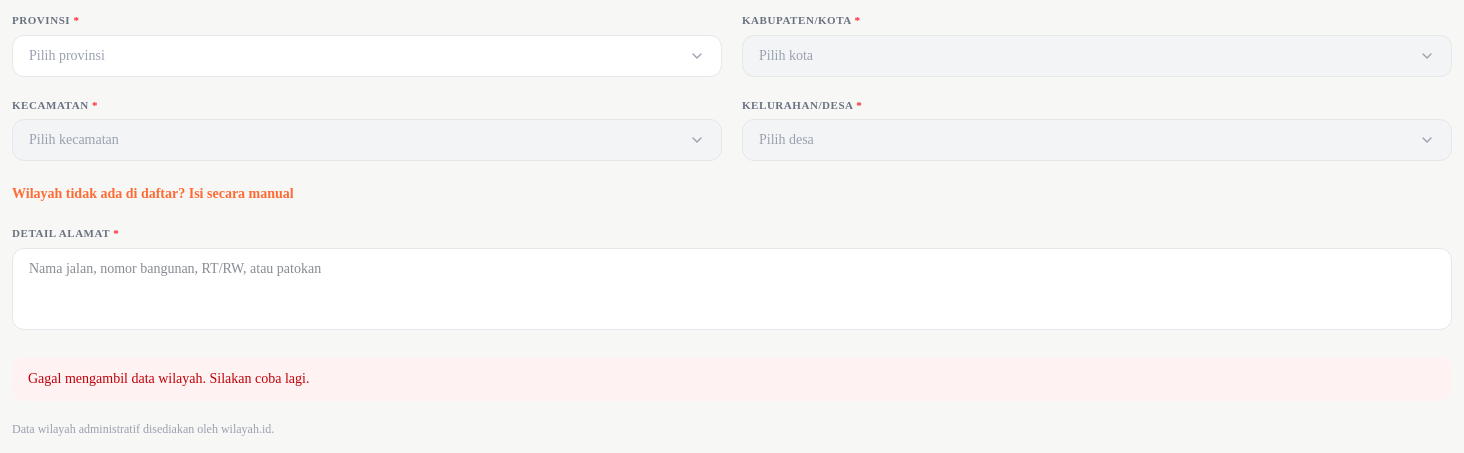
Test: IndonesiaRegionFields › offers manual region fields when wilayah.id is unavailable
expect the message shows "Gagal mengambil data wilayah": met, box [28,370,310,386]
Click the button "Wilayah tidak ada di daftar? Isi secara manual" at (153, 194), box [12,184,294,204]
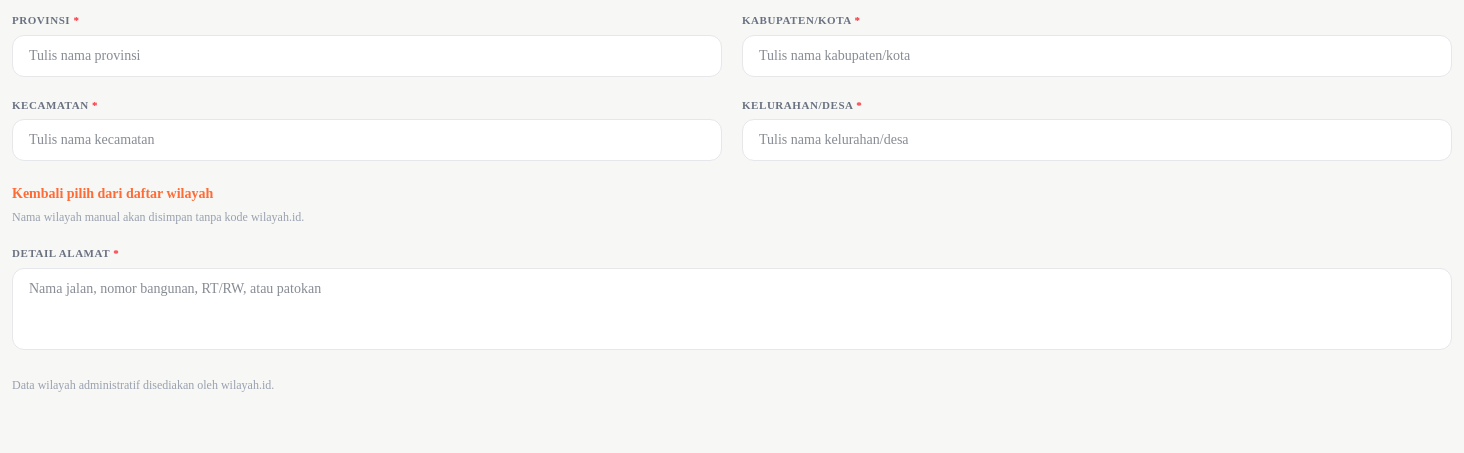
expect the field labelled "Provinsi *" is shown: met, box [12,34,722,76]
expect the field labelled "Kabupaten/Kota *" is shown: met, box [742,34,1452,76]
expect the field labelled "Kecamatan *" is shown: met, box [12,119,722,161]
